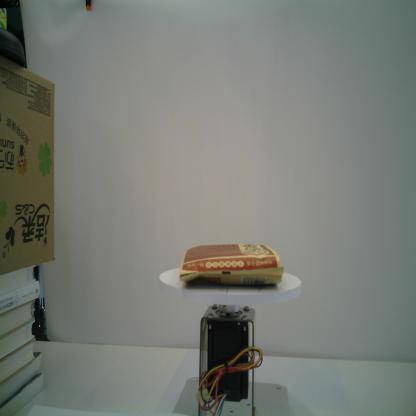Dried Food: (179, 243, 284, 286)
